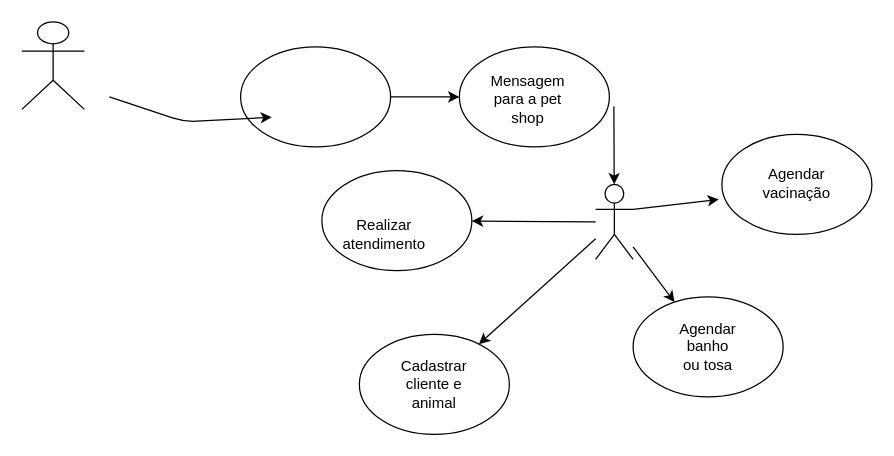
Some shapes in this 894 by 456 pixel diagram are drawn without their labels. Each missing label, with the box of its shape:
Cuidador: (594, 183, 633, 259)
Dono: (21, 21, 84, 109)
Solicitação serviço: (239, 46, 391, 147)
